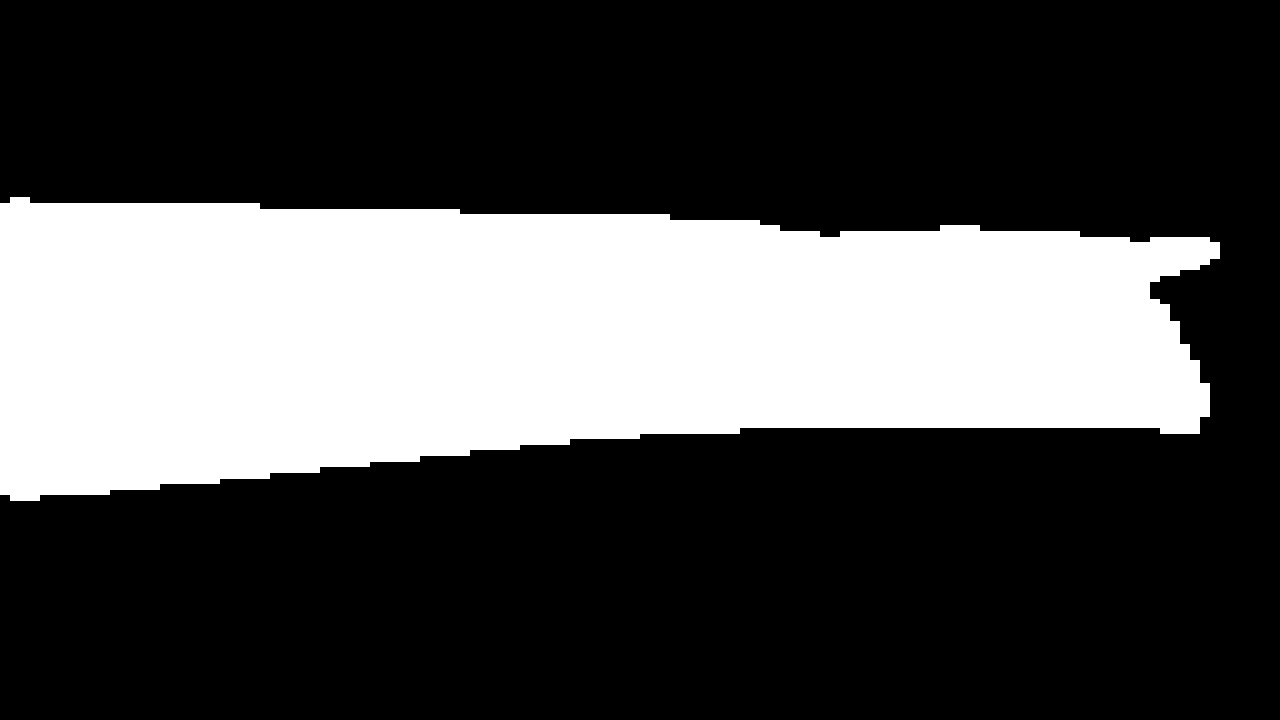Turbine: (14, 186, 1233, 500)
